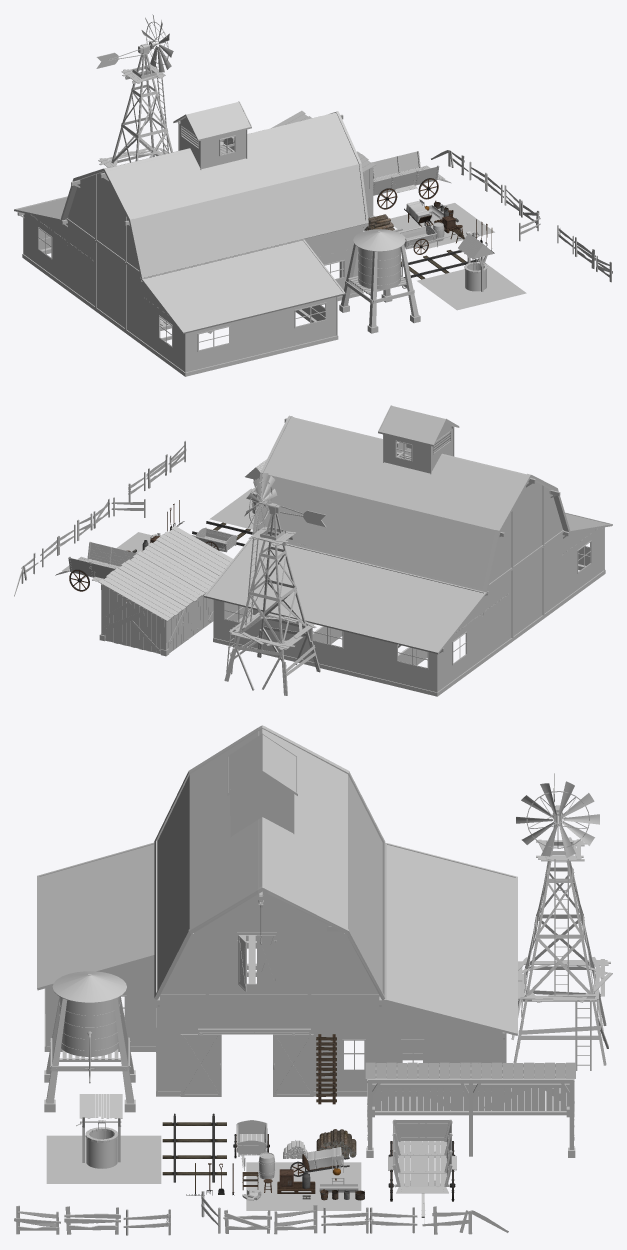
Rendered from Farm Pack.fbx.
The picture shows the model from 3 angles, top to bottom: view 1: azimuth 30°, elevation 25°; view 2: azimuth 150°, elevation 25°; view 3: azimuth 270°, elevation 25°; orthographic projection. The views are drawn at different scales.
Parts seen in each view (by area): view 1: Barn Building, Watertower, Windmill Wood, Hay Texture.001, Waggon Body, Hay Texture, Fountain, Hut, Wooden Framework, Windmill Wheel, Small Cart, Rails; view 2: Barn Building, Hut, Windmill Wood, Waggon Body, Hay Texture.001, Windmill Wheel, Small Cart, Windmill Parts, Wooden Framework, FenceGateOpen, Hay Texture; view 3: Barn Building, Hut, Windmill Wood, Watertower, Hay Texture.001, Waggon Body, Hay Texture, Fountain, Windmill Wheel, Barn Door 1, Barn Door 2, Rails (+9 smaller).
Part boxes in pixels (x1,y1,x2,y2): Barn Building: (14, 101, 368, 376); Watertower: (339, 229, 420, 333); Windmill Wood: (98, 54, 172, 167); Hay Texture.001: (417, 264, 526, 310); Waggon Body: (372, 151, 445, 198); Hay Texture: (390, 203, 494, 249); Fountain: (458, 233, 494, 291); Hut: (271, 110, 375, 218); Wooden Framework: (31, 137, 352, 340); Windmill Wheel: (141, 14, 173, 72); Small Cart: (398, 225, 450, 249); Rails: (401, 250, 478, 279); Barn Building: (204, 405, 612, 696); Hut: (98, 526, 232, 656); Windmill Wood: (224, 513, 320, 695); Waggon Body: (62, 541, 136, 581); Hay Texture.001: (209, 488, 254, 529); Windmill Wheel: (244, 473, 277, 532); Small Cart: (192, 527, 237, 552); Windmill Parts: (268, 503, 325, 527); Wooden Framework: (227, 441, 590, 647); FenceGateOpen: (111, 472, 145, 517); Hay Texture: (116, 532, 152, 553); Barn Building: (37, 725, 517, 1096); Hut: (365, 1062, 575, 1157); Windmill Wood: (511, 822, 612, 1070); Watertower: (44, 971, 135, 1112); Hay Texture.001: (46, 1135, 161, 1183); Waggon Body: (388, 1119, 456, 1193); Hay Texture: (246, 1162, 361, 1210); Fountain: (76, 1094, 122, 1168); Windmill Wheel: (516, 781, 599, 857); Barn Door 1: (180, 1033, 221, 1096); Barn Door 2: (273, 1033, 313, 1096); Rails: (162, 1113, 226, 1182).
Size of the model in its own units: 12.2 by 5.28 by 10.43.
